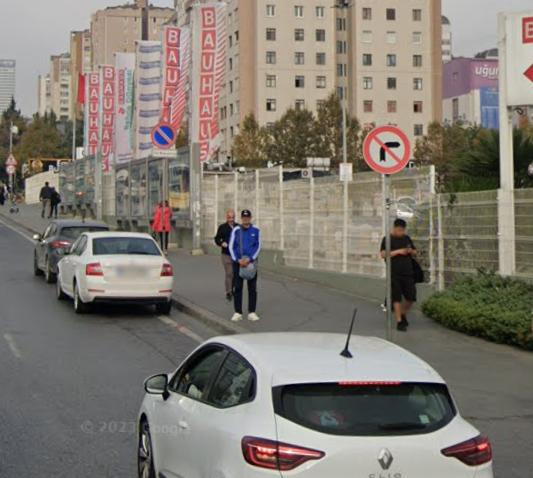leftturnsareforbidden: (361, 126, 411, 174)
nopark: (151, 122, 176, 149)
